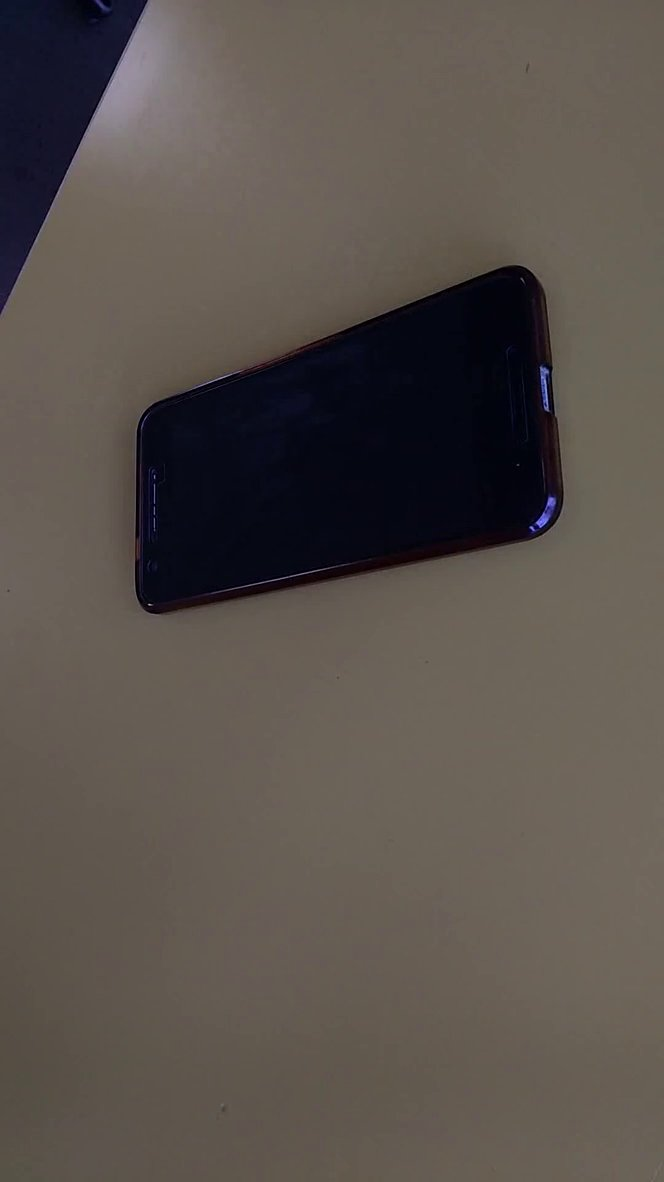phone: (126, 257, 579, 636)
